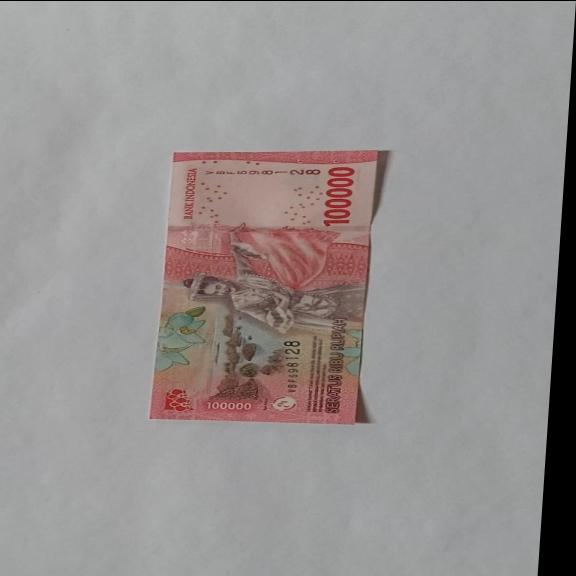Kertas: (148, 150, 384, 425), (319, 166, 357, 226)
